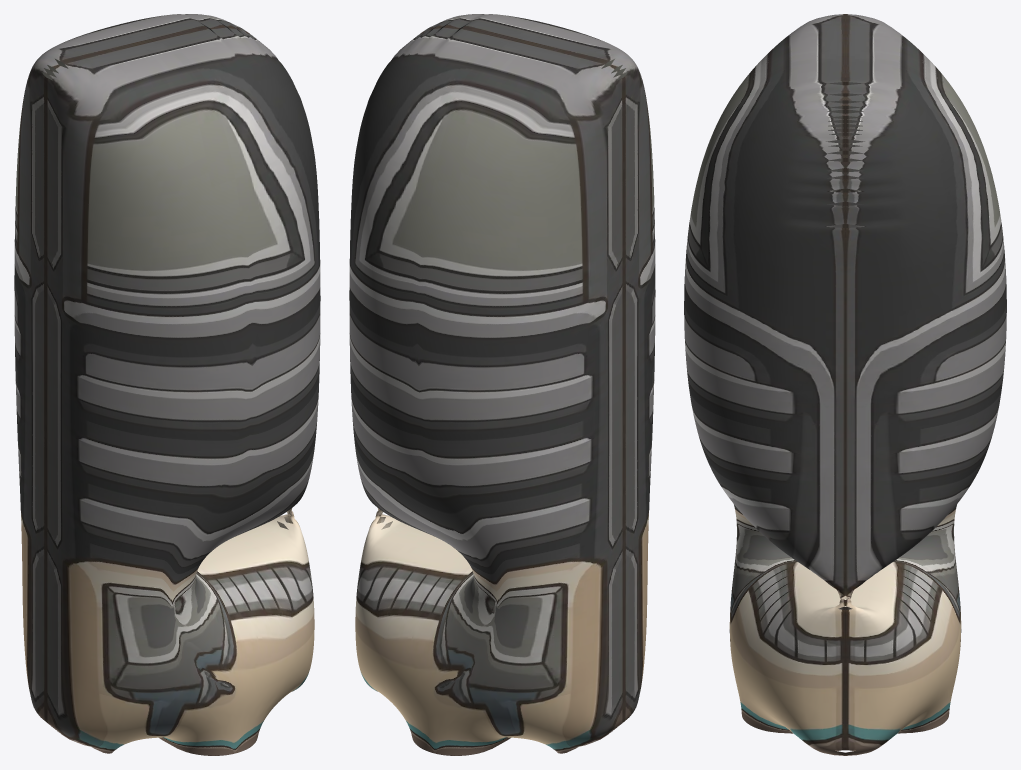
Rendered from ribbed_bulkhead.glb.
3 views of the same model, side by side, from view 1: azimuth 30°, elevation 25°; view 2: azimuth 150°, elevation 25°; view 3: azimuth 270°, elevation 25° (orthographic). The views are drawn at different scales.
Visible parts, largest first — view 1: ribbed_bulkhead; view 2: ribbed_bulkhead; view 3: ribbed_bulkhead.
Part boxes in pixels (x1,y1,x2,y2): ribbed_bulkhead: (14, 14, 320, 755); ribbed_bulkhead: (349, 14, 655, 755); ribbed_bulkhead: (684, 14, 1006, 755).
Size of the model in its own units: 0.972 by 2.53 by 1.15.
Materials: 1 (1 with a texture image).
